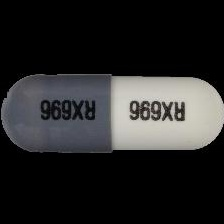55700-390: (0, 0, 224, 224)
